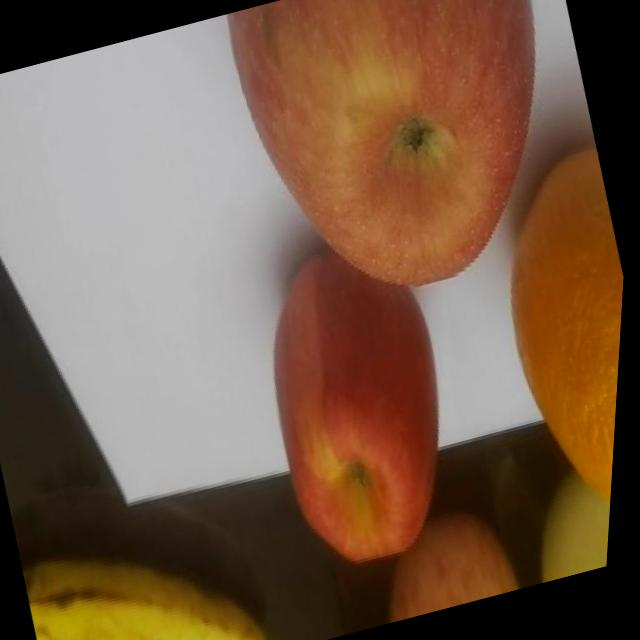Apple: (210, 0, 598, 322), (235, 227, 492, 578), (371, 498, 531, 624)
Banana: (24, 509, 284, 640)
Orange: (465, 147, 633, 542)
